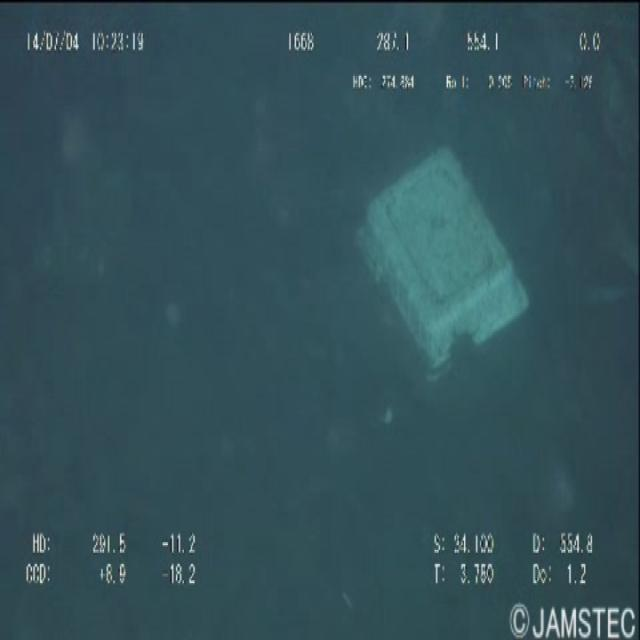Cutlery: (346, 132, 544, 376)
